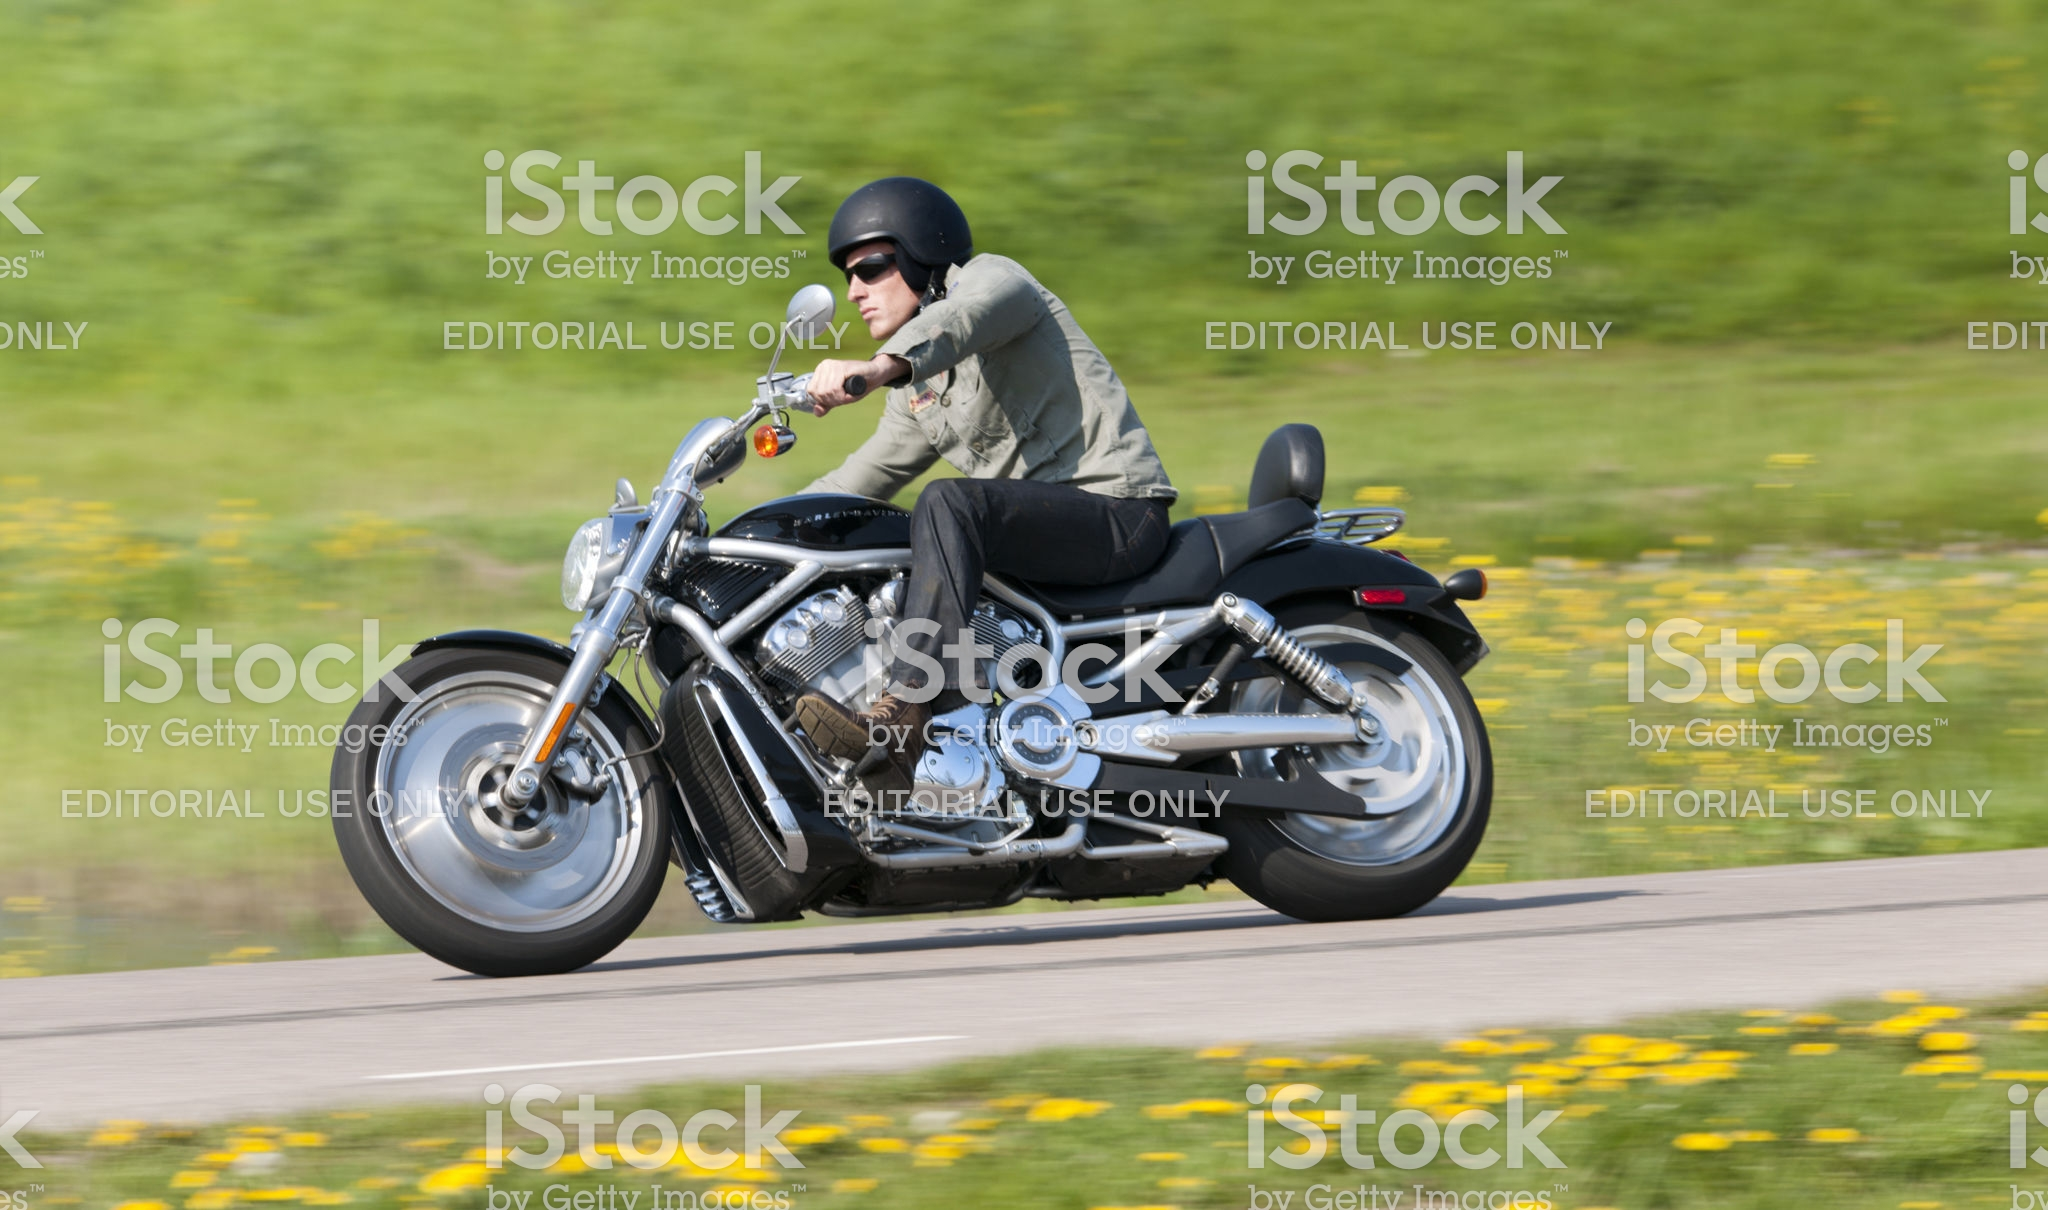helmet: (812, 189, 989, 281)
